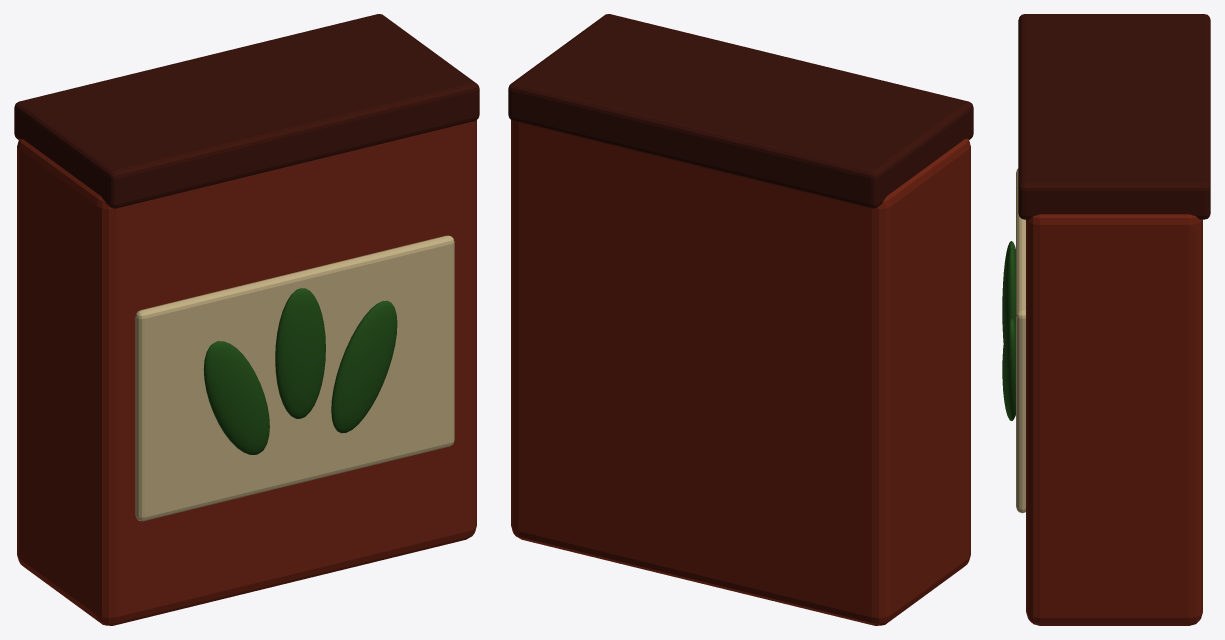
The model's file is YerbaEconomica3D.fbx.
3 views of the same model, side by side, from view 1: azimuth 30°, elevation 25°; view 2: azimuth 150°, elevation 25°; view 3: azimuth 270°, elevation 25° (orthographic). The views are drawn at different scales.
Parts seen in each view (by area): view 1: YerbaEconomica3D; view 2: YerbaEconomica3D; view 3: YerbaEconomica3D.
Boxes of the visible parts, x1,y1,x2,y2 form: YerbaEconomica3D: (14, 14, 479, 625); YerbaEconomica3D: (508, 14, 973, 625); YerbaEconomica3D: (1002, 14, 1210, 625).
Size of the model in its own units: 27.3 by 31.8 by 13.55.
